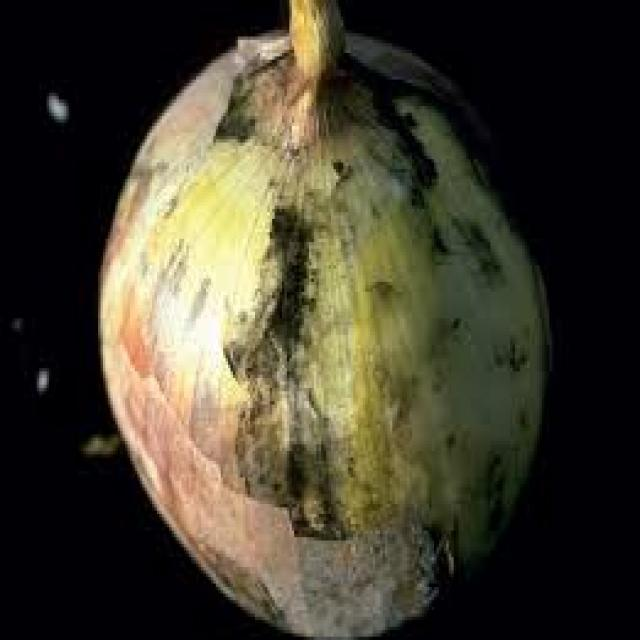mould: (245, 403, 342, 527), (262, 210, 328, 385), (221, 91, 262, 150)
